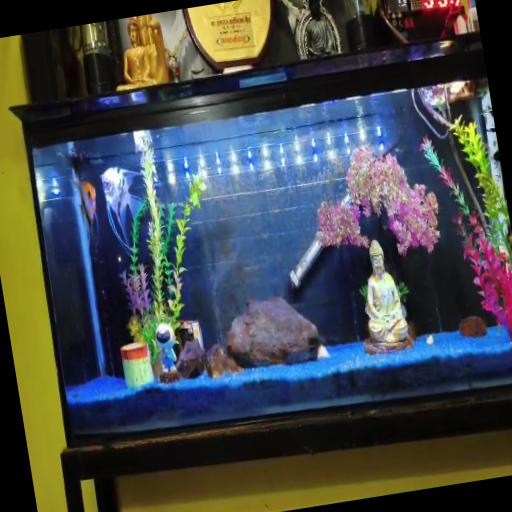Fish: (101, 167, 142, 252), (72, 180, 97, 244)
